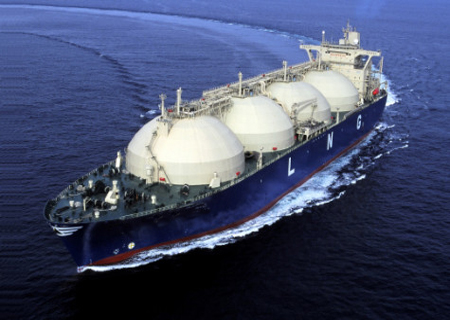Cargoship: (42, 21, 399, 271)
